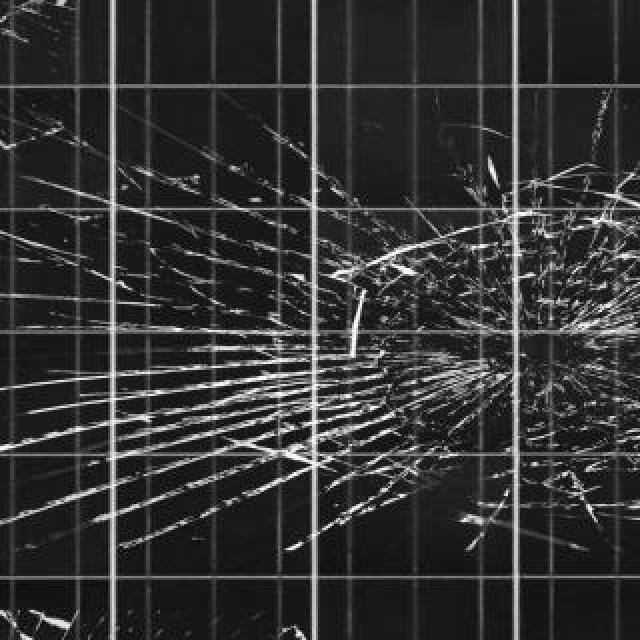Physical-damage: (31, 106, 637, 578)
